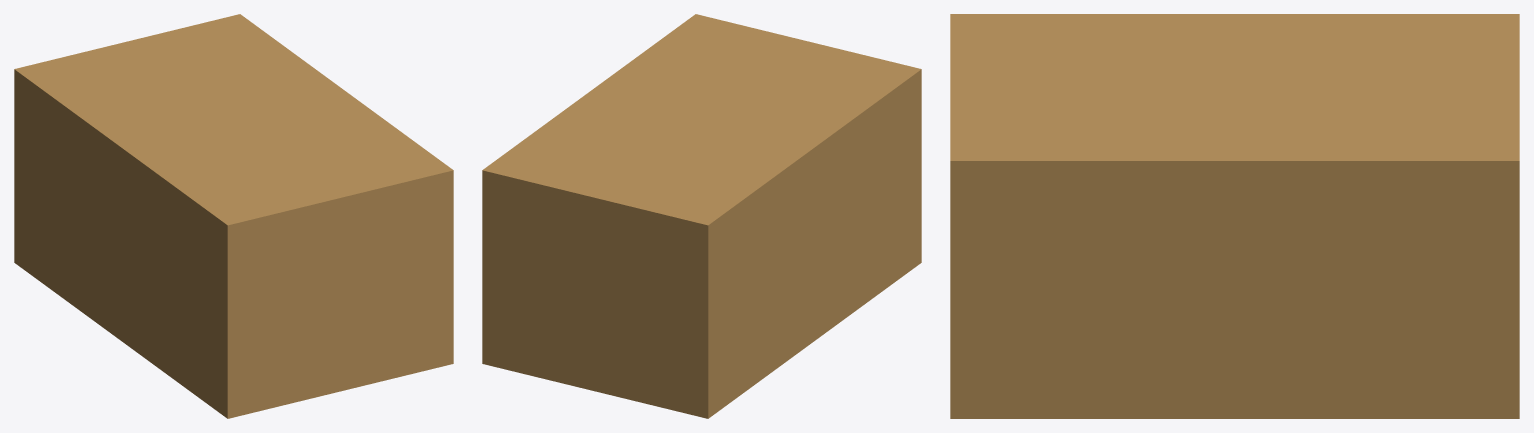
3 views of the same model, side by side, from view 1: azimuth 30°, elevation 25°; view 2: azimuth 150°, elevation 25°; view 3: azimuth 270°, elevation 25° (orthographic). The views are drawn at different scales.
Parts seen in each view (by area): view 1: __delivery_mesh_6655; view 2: __delivery_mesh_6655; view 3: __delivery_mesh_6655.
Boxes of the visible parts, x1,y1,x2,y2 form: __delivery_mesh_6655: (14, 14, 453, 418); __delivery_mesh_6655: (482, 14, 921, 418); __delivery_mesh_6655: (950, 14, 1519, 418).
Bounding box in the file's own units: 0.055 × 0.045 × 0.09.
